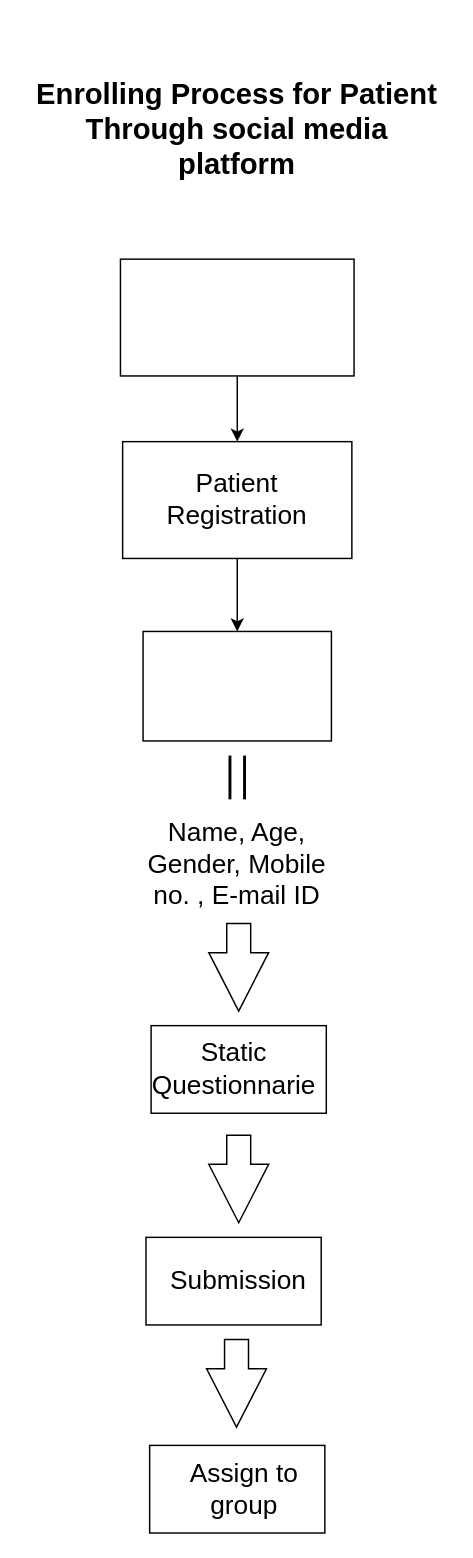
Image size: 473x1558. Some labels were removed from this diagram. Here are the shapes that lost their labels. From the top down, the box of each, then its label:
(119, 258, 354, 376): Heart Disease Support Group(Facebook, online platforms, ads)
(142, 630, 331, 741): Collection of patient information
